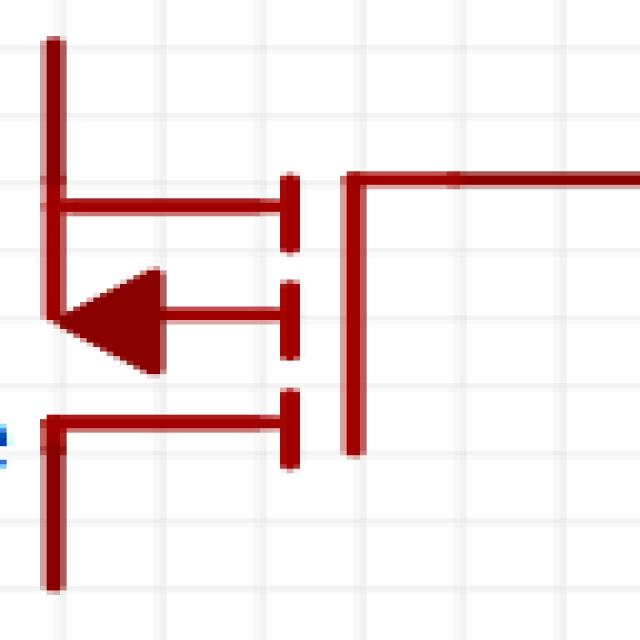pmos: (4, 36, 640, 614)
